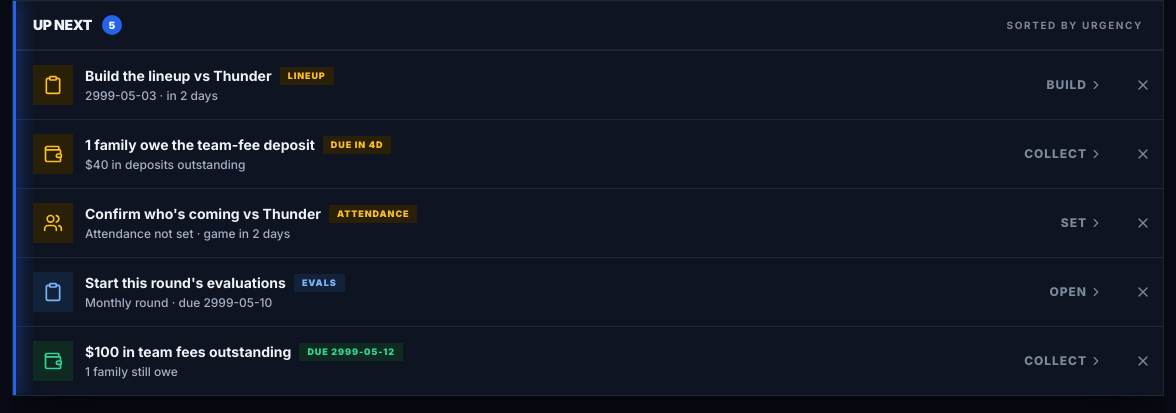
UpNextPanel › snoozes a row so it disappears from the list
Expected: the text "Build the lineup vs Thunder" is shown, [85,66,272,86]
Click the button named "snooze: build the lineup vs thunder" at (1143, 85), box [1123,51,1163,119]
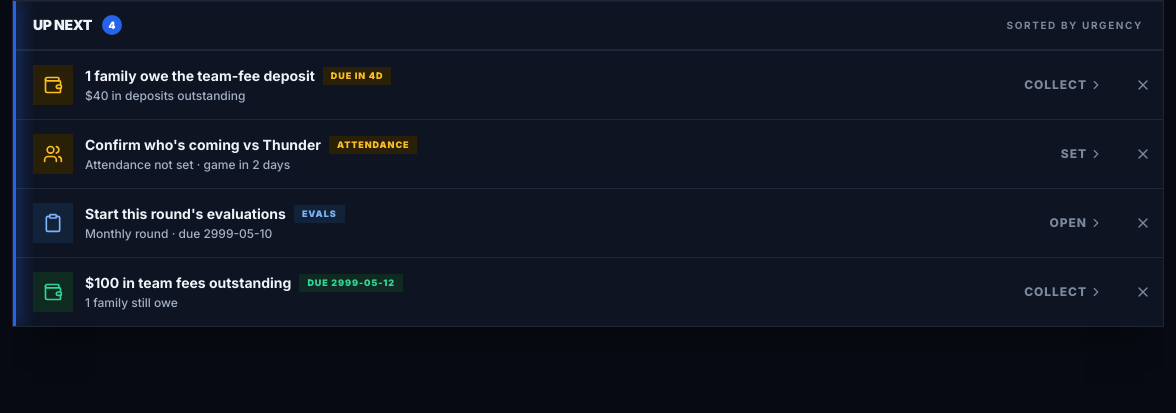
Result: the button "Build the lineup vs Thunder" is gone
